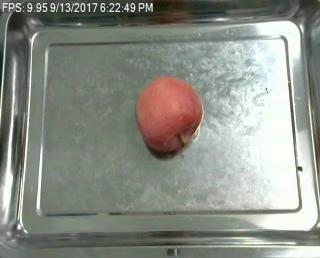apple: (134, 76, 204, 155)
